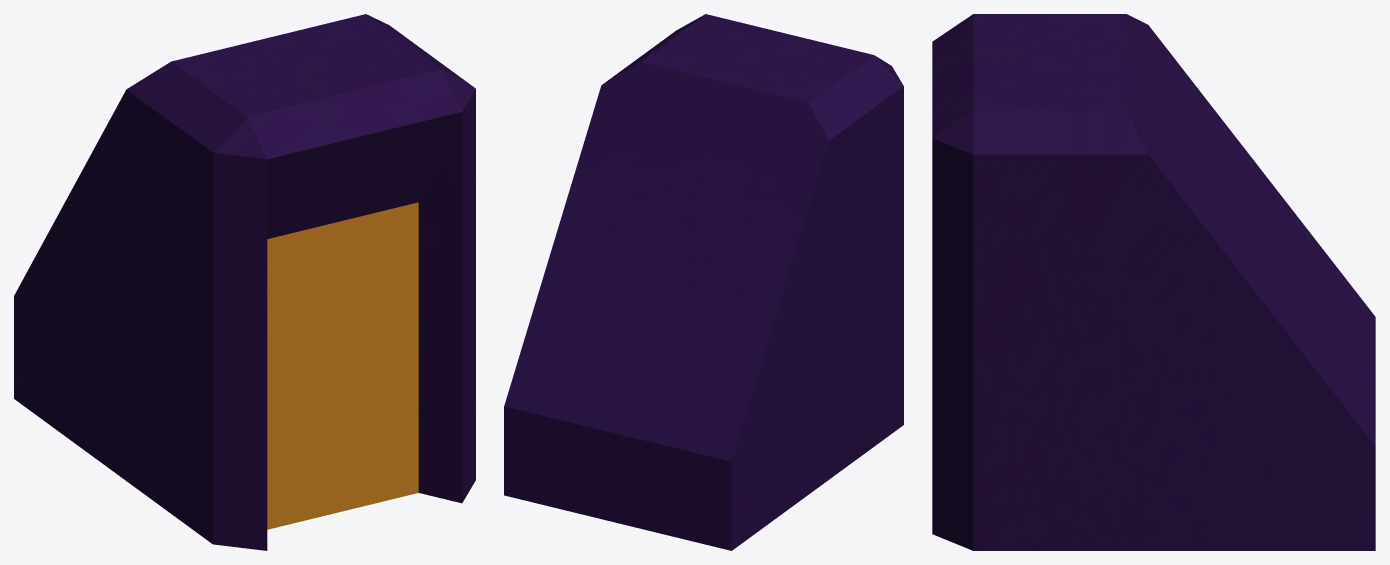
File: Door.fbx
The picture shows the model from 3 angles, left to right: view 1: azimuth 30°, elevation 25°; view 2: azimuth 150°, elevation 25°; view 3: azimuth 270°, elevation 25°; orthographic projection. The views are drawn at different scales.
Visible parts, largest first — view 1: citaadel_door; view 2: citaadel_door; view 3: citaadel_door.
Part boxes in pixels (bbox=[...]): citaadel_door: bbox=[14, 14, 475, 550]; citaadel_door: bbox=[504, 14, 903, 550]; citaadel_door: bbox=[932, 14, 1375, 550].
Bounding box in the file's own units: 70.32 × 107 × 101.
